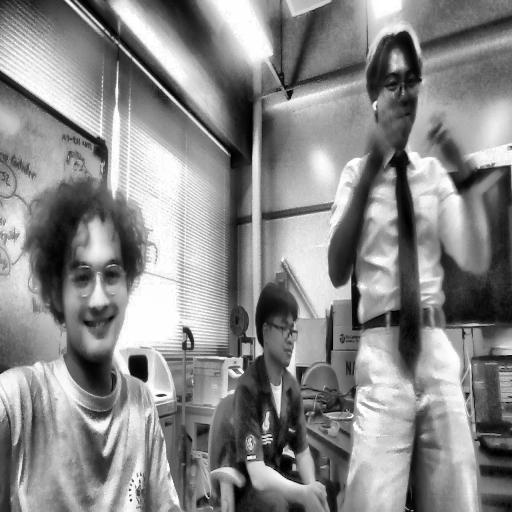Daifuku: (34, 177, 153, 357)
Not Daifuku: (362, 26, 426, 156), (256, 274, 296, 372)
